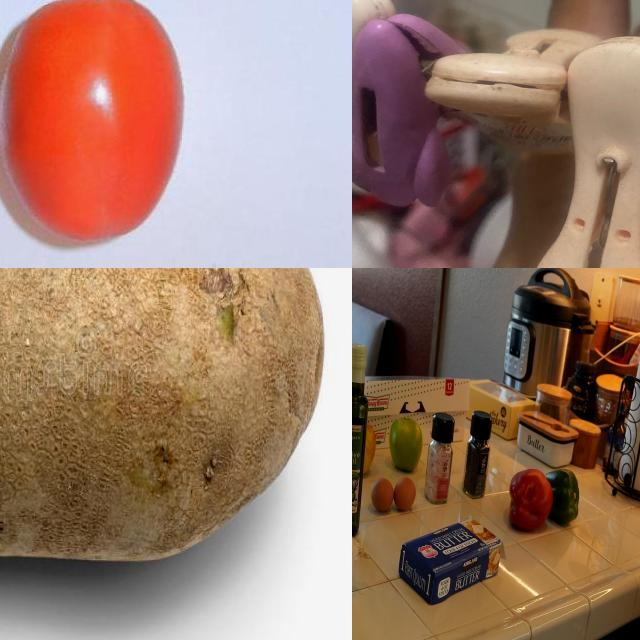bell_pepper: (542, 466, 586, 534), (508, 466, 553, 532), (464, 409, 494, 499)
egg: (372, 477, 395, 520), (394, 477, 418, 513)
potato: (1, 269, 323, 565)
tomato: (1, 1, 210, 269)
